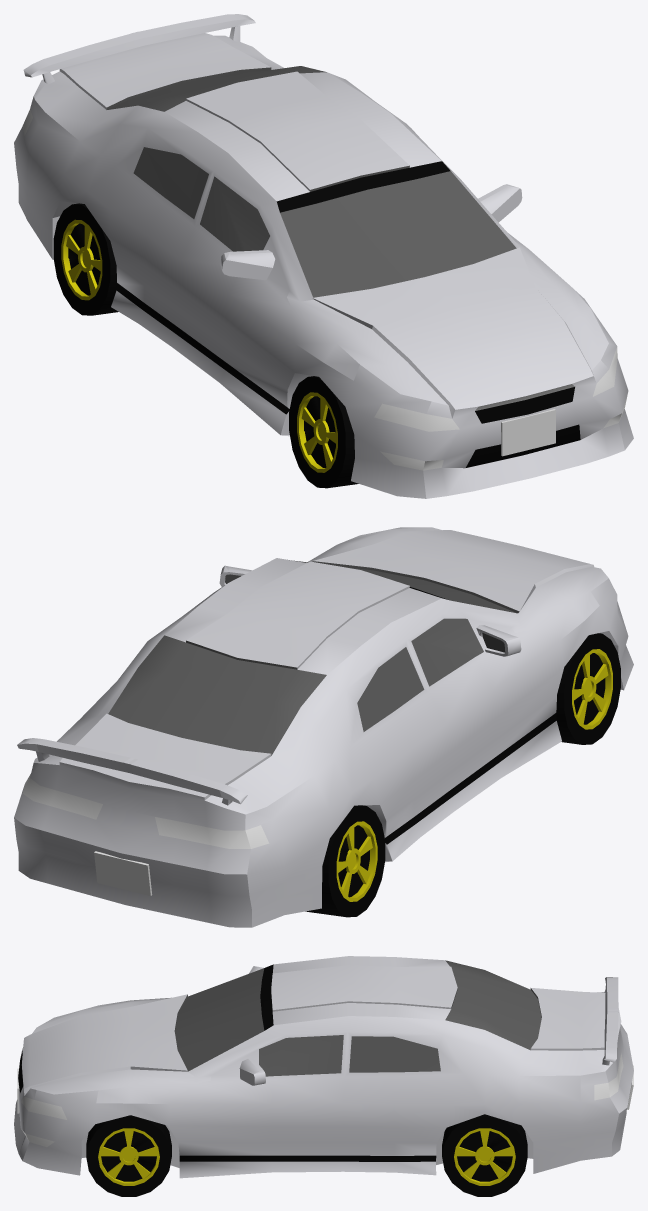
The model's file is mark II.2.fbx.
The picture shows the model from 3 angles, top to bottom: view 1: azimuth 30°, elevation 25°; view 2: azimuth 150°, elevation 25°; view 3: azimuth 270°, elevation 25°; orthographic projection. The views are drawn at different scales.
Visible parts, largest first — view 1: Body, wheels front right, wheels back right, spoiler, mirrors, number; view 2: Body, wheels back right, wheels front right, spoiler, back number, mirrors; view 3: Body, wheels front left, wheels back left, spoiler, mirrors.
Part boxes in pixels (bbox=[...]): Body: bbox=[14, 33, 633, 498]; wheels front right: bbox=[289, 376, 358, 488]; wheels back right: bbox=[53, 203, 118, 315]; spoiler: bbox=[23, 14, 255, 84]; mirrors: bbox=[220, 184, 522, 279]; number: bbox=[501, 409, 555, 456]; Body: bbox=[14, 527, 633, 927]; wheels back right: bbox=[305, 805, 385, 917]; wheels front right: bbox=[556, 633, 620, 744]; spoiler: bbox=[17, 738, 247, 805]; back number: bbox=[94, 851, 152, 895]; mirrors: bbox=[219, 565, 521, 656]; Body: bbox=[14, 956, 633, 1178]; wheels front left: bbox=[86, 1115, 171, 1196]; wheels back left: bbox=[442, 1114, 527, 1196]; spoiler: bbox=[602, 977, 618, 1065]; mirrors: bbox=[239, 966, 265, 1085].
Size of the model in its own units: 167 by 117 by 396.
